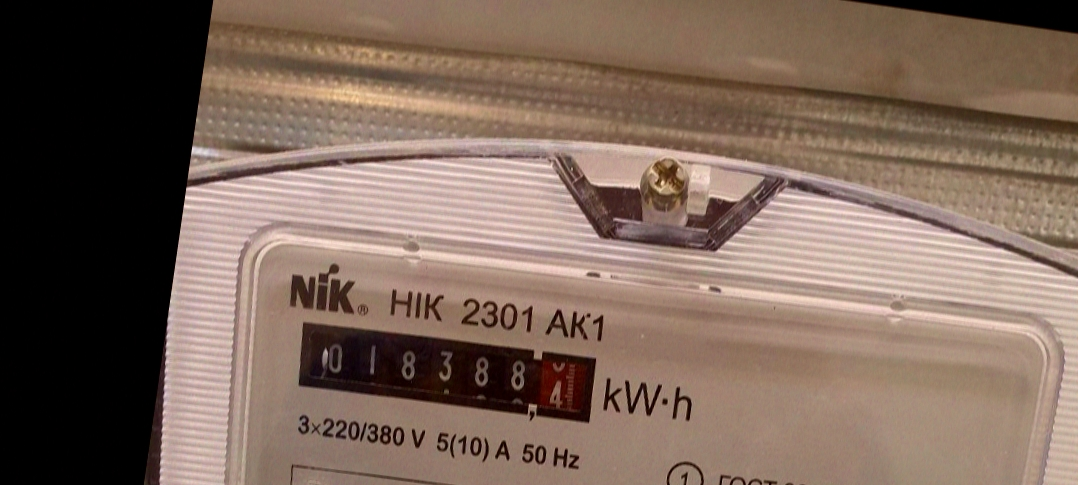0: (322, 339, 347, 377)
1: (361, 339, 384, 379)
3: (433, 348, 458, 385)
4: (544, 376, 568, 411)
8: (395, 345, 421, 384), (505, 356, 531, 395), (469, 354, 494, 391)
screen: (284, 306, 612, 441)
